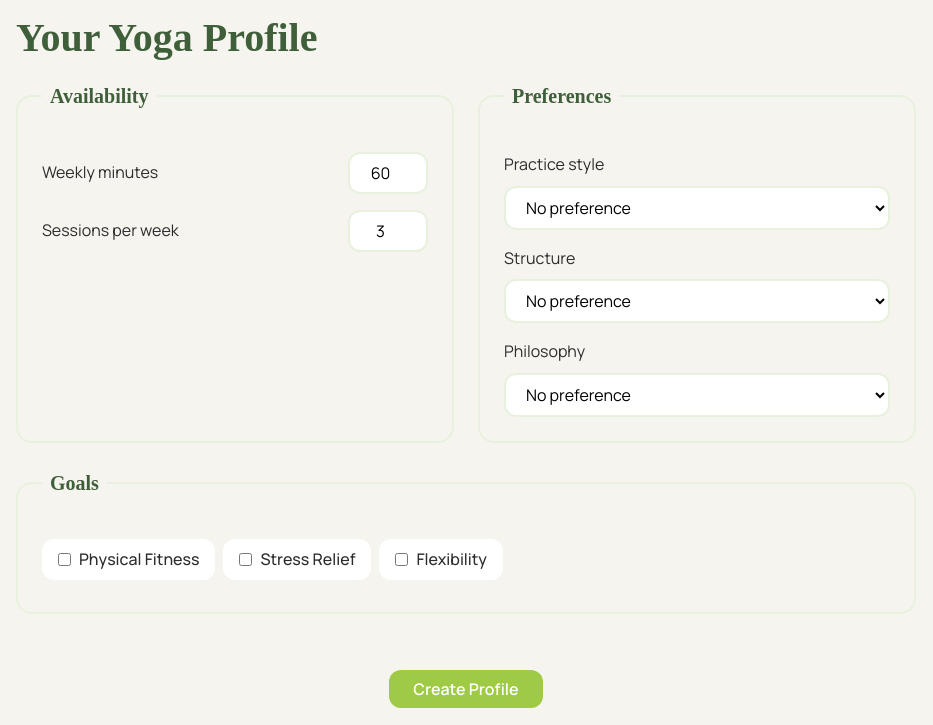
Scenario: Profile Page › validation › shows error when weekly minutes is below minimum
Replace the text in the number field labelled "Weekly minutes" with "5": (388, 173) [348,152,428,194]
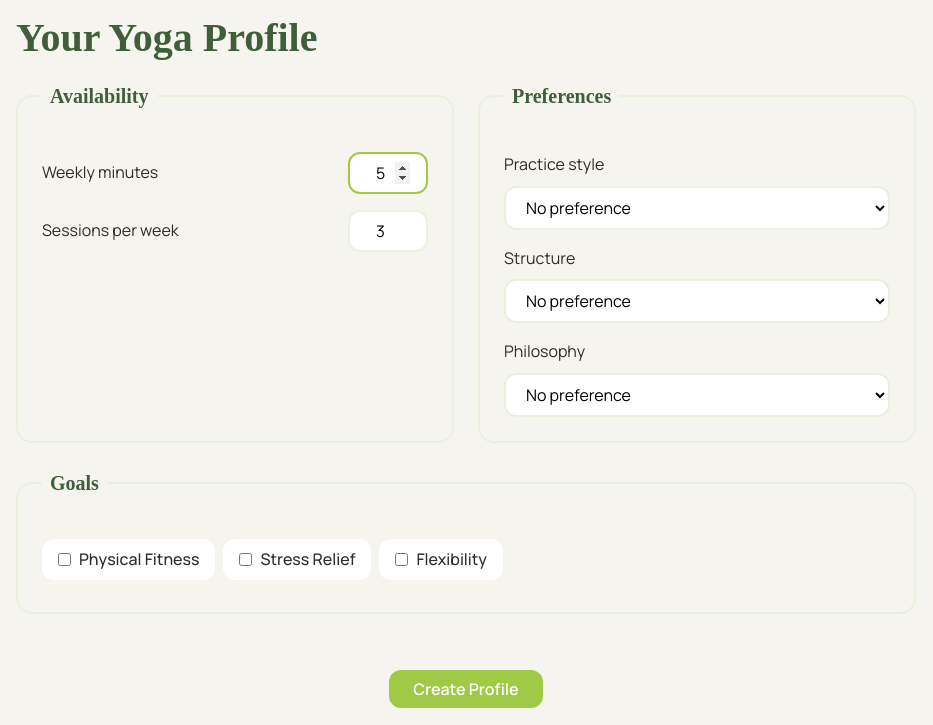
Click the button "Create Profile": (466, 689) [389,670,543,708]
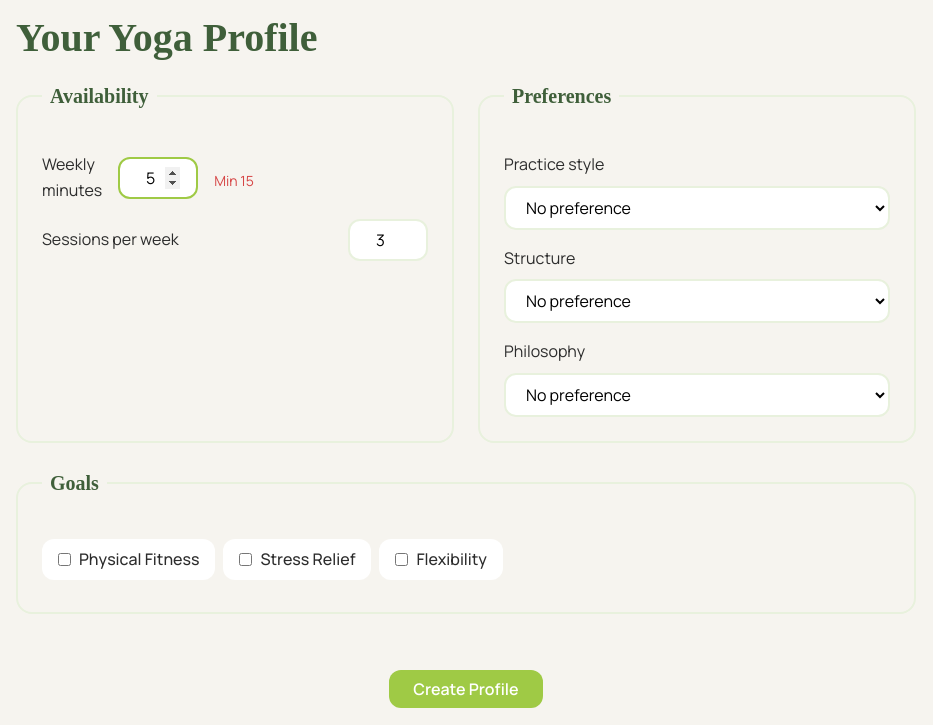
Expected: the text "Min 15" is shown, [214,171,254,190]
